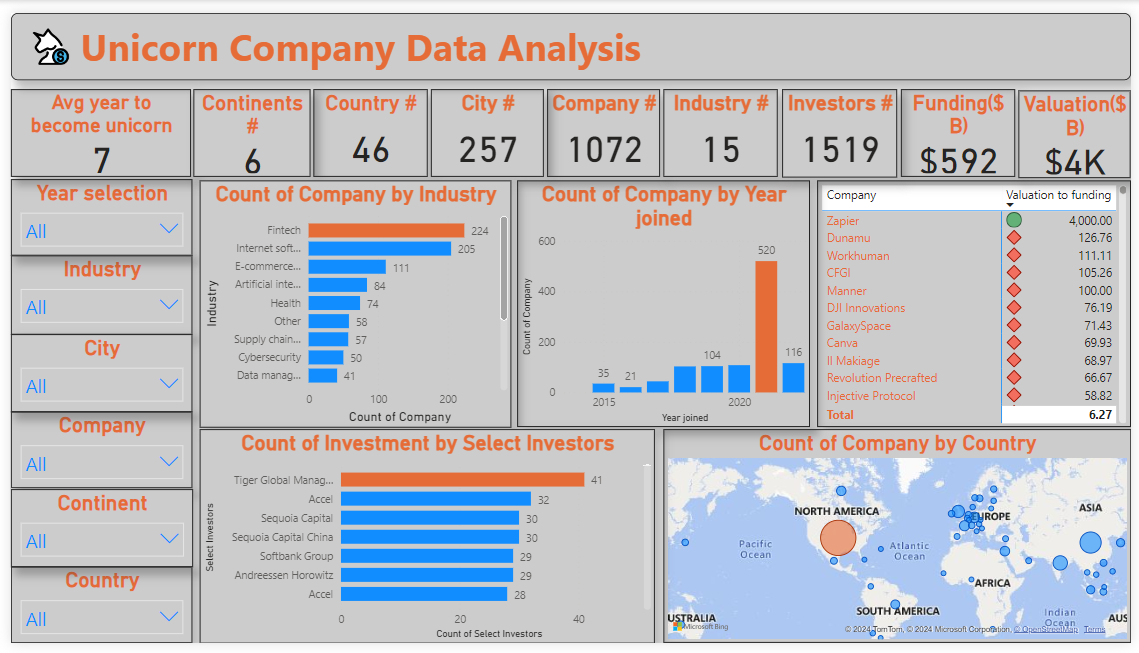

This screenshot's page, from the dashboard's own definition file:
{"tool":"powerbi","page":{"name":"Page 1","canvas":[1280,720],"ordinal":0},"visuals":[{"type":"slicer","title":"Industry","fields":{"Values":["Unicorn_Companies.Industry"]},"box":[0,277.5,207.5,90],"z":0},{"type":"slicer","title":"Country","fields":{"Values":["Unicorn_Companies.Country"]},"box":[0,632.5,207.5,87.5],"z":1000},{"type":"slicer","title":"Company","fields":{"Values":["Unicorn_Companies.Company"]},"box":[0,456.2,207.5,87.5],"z":2000},{"type":"slicer","title":"Year selection","fields":{"Values":["Unicorn_Companies.Year joined"]},"box":[0,190,207.5,87.5],"z":3000},{"type":"slicer","title":"City","fields":{"Values":["Unicorn_Companies.City"]},"box":[0,367.5,207.5,88.8],"z":4000},{"type":"slicer","title":"Continent","fields":{"Values":["Unicorn_Companies.Continent"]},"box":[0,544,208,89],"z":5000},{"type":"card","title":"Avg year to become unicorn","fields":{"Values":["Unicorn_Companies.Avg Years to become unicorn"]},"box":[0,87.1,205.7,100],"z":6000},{"type":"pivotTable","fields":{"Rows":["Unicorn_Companies.Company"],"Values":["Unicorn_Companies.Valuation to funding"]},"box":[921.7,191.7,358.3,281.7],"z":7000},{"type":"map","fields":{"Category":["Unicorn_Companies.Country"],"Size":["CountNonNull(Unicorn_Companies.Company)"]},"box":[745.7,475.7,534.3,244.3],"z":8000},{"type":"columnChart","fields":{"Category":["Unicorn_Companies.Year joined"],"Y":["CountNonNull(Unicorn_Companies.Company)"]},"box":[578.6,191.4,334.3,281.4],"z":9000},{"type":"card","title":"Company #","fields":{"Values":["Count(Unicorn_Companies.Company)"]},"box":[612.9,87.1,128.8,100],"z":10000},{"type":"card","title":"Country #","fields":{"Values":["Count(Unicorn_Companies.Country)"]},"box":[345.7,87.1,130,100],"z":11000},{"type":"card","title":"Funding($ B)","fields":{"Values":["Sum(Unicorn_Companies.Funding($ B))"]},"box":[1016.5,87.1,130,100],"z":12000},{"type":"card","title":"Industry #","fields":{"Values":["Count(Unicorn_Companies.Industry)"]},"box":[745.9,87.1,130,100],"z":13000},{"type":"card","title":"Continents #","fields":{"Values":["Count(Unicorn_Companies.Continent)"]},"box":[208.2,87.3,133.6,100],"z":14000},{"type":"card","title":"City #","fields":{"Values":["Count(Unicorn_Companies.City)"]},"box":[480,87.1,128.8,100],"z":15000},{"type":"card","title":"Valuation($ B)","fields":{"Values":["Sum(Unicorn_Companies.Valuation($ B))"]},"box":[1152,88,128,100],"z":16000},{"type":"clusteredBarChart","fields":{"Category":["Unicorn_Companies.Industry"],"Y":["CountNonNull(Unicorn_Companies.Company)"]},"box":[216,192,356,282],"z":17000},{"type":"barChart","title":"Count of Investment by Select Investors","fields":{"Category":["Investor_data.Select Investors"],"Y":["CountNonNull(Investor_data.Select Investors)"]},"box":[215.5,475.5,520,244.5],"z":18000},{"type":"card","title":"Investors #","fields":{"Values":["Count(Investor_data.Select Investors)"]},"box":[881.2,87.1,131.2,101.2],"z":19000},{"type":"textbox","box":[0,0,1280,77.1],"z":20000},{"type":"image","box":[20,12.9,51.4,51.4],"z":20001}]}

Visuals, with their boxes in screenshot pixels (x1, y1, x2, y2), scaled from the page's 1280x720 canvas onto the 1139x653 screenshot:
"Industry" slicer: region(0, 252, 185, 333)
"Country" slicer: region(0, 574, 185, 652)
"Company" slicer: region(0, 414, 185, 493)
"Year selection" slicer: region(0, 172, 185, 252)
"City" slicer: region(0, 333, 185, 414)
"Continent" slicer: region(0, 493, 185, 574)
"Avg year to become unicorn" card: region(0, 79, 183, 170)
pivotTable - Unicorn_Companies.Company x Unicorn_Companies.Valuation to funding: region(820, 174, 1138, 429)
map - Unicorn_Companies.Country x CountNonNull(Unicorn_Companies.Company): region(664, 431, 1138, 652)
columnChart - Unicorn_Companies.Year joined x CountNonNull(Unicorn_Companies.Company): region(515, 174, 812, 429)
"Company #" card: region(545, 79, 660, 170)
"Country #" card: region(308, 79, 423, 170)
"Funding($ B)" card: region(905, 79, 1020, 170)
"Industry #" card: region(664, 79, 779, 170)
"Continents #" card: region(185, 79, 304, 170)
"City #" card: region(427, 79, 542, 170)
"Valuation($ B)" card: region(1025, 80, 1138, 171)
clusteredBarChart - Unicorn_Companies.Industry x CountNonNull(Unicorn_Companies.Company): region(192, 174, 509, 430)
"Count of Investment by Select Investors" barChart: region(192, 431, 654, 652)
"Investors #" card: region(784, 79, 901, 171)
textbox: region(0, 0, 1138, 70)
image: region(18, 12, 64, 58)
